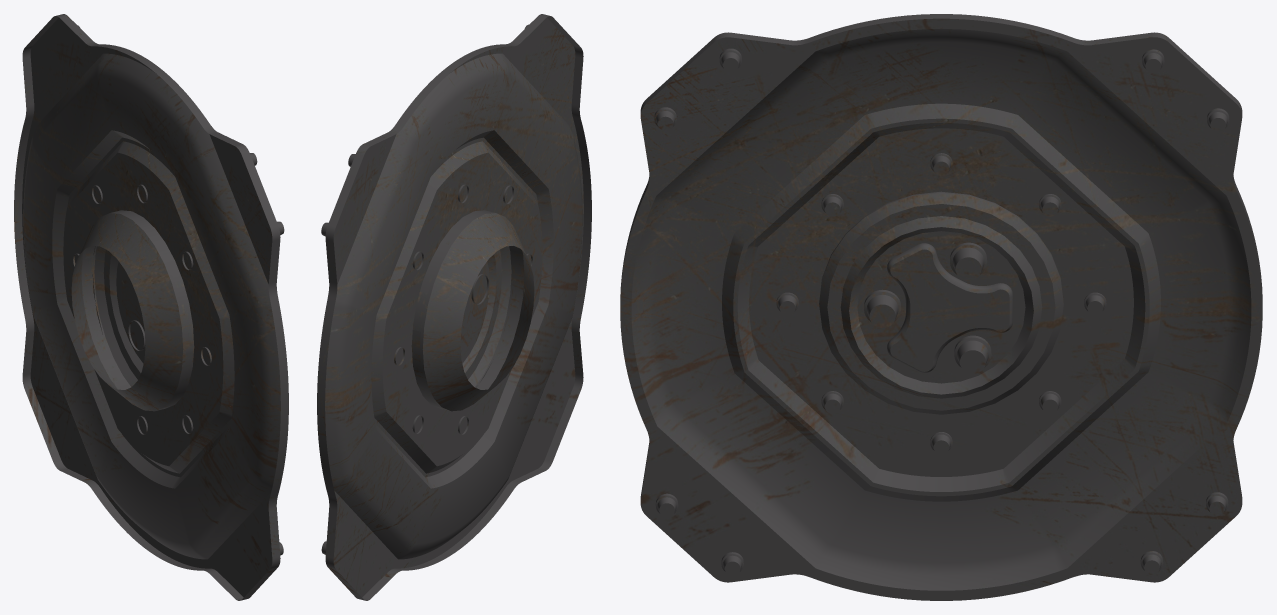
File: FrontRim_Inner.gltf
The picture shows the model from 3 angles, left to right: view 1: azimuth 30°, elevation 25°; view 2: azimuth 150°, elevation 25°; view 3: azimuth 270°, elevation 25°; orthographic projection. The views are drawn at different scales.
Visible parts, largest first — view 1: AM115_026_22; view 2: AM115_026_22; view 3: AM115_026_22.
Boxes of the visible parts, bbox=[...] form: AM115_026_22: bbox=[14, 14, 288, 600]; AM115_026_22: bbox=[317, 14, 591, 600]; AM115_026_22: bbox=[620, 14, 1262, 600].
Bounding box in the file's own units: 0.0673 × 0.5276 × 0.5276.
Materials: 1 (1 with a texture image).
